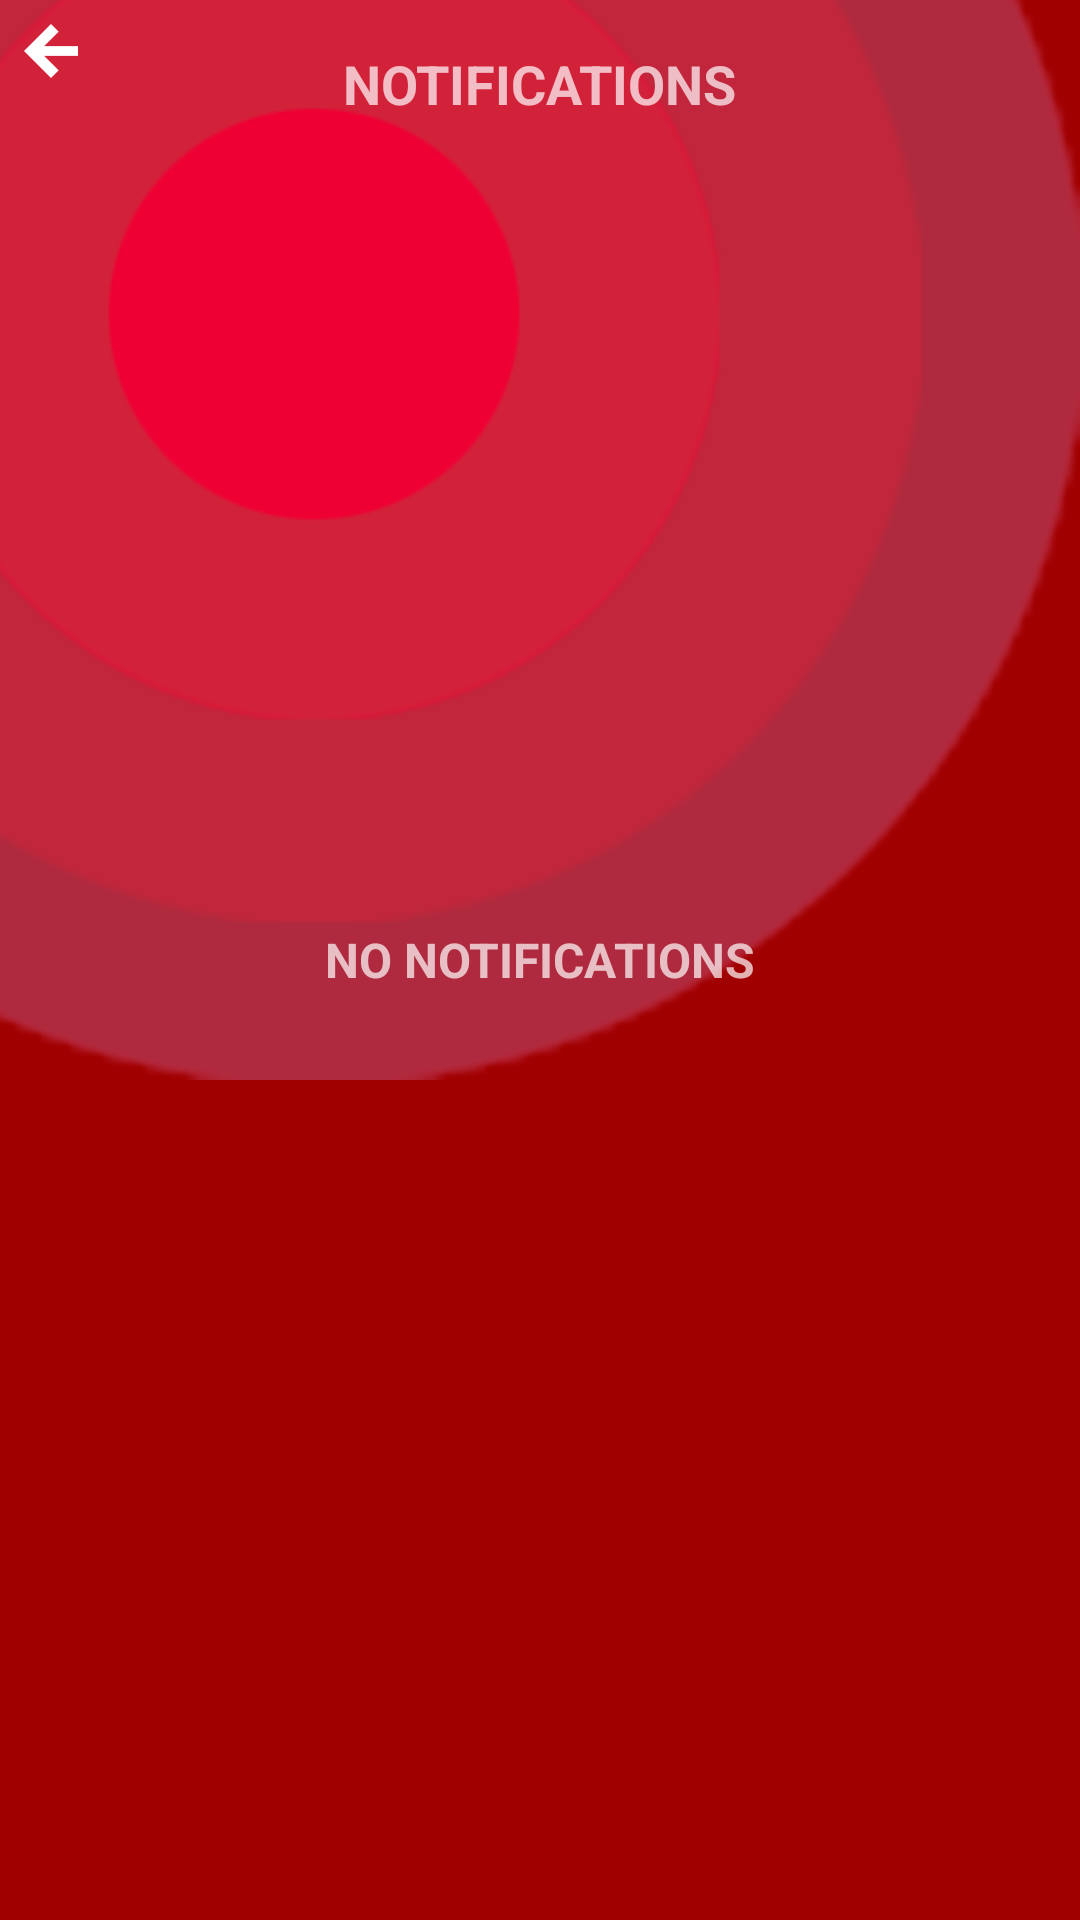

Icons on this 1080px×1920px Android screen, each with its box as box(x1, y1, x2, y2):
arrow left: box(24, 24, 78, 78)
